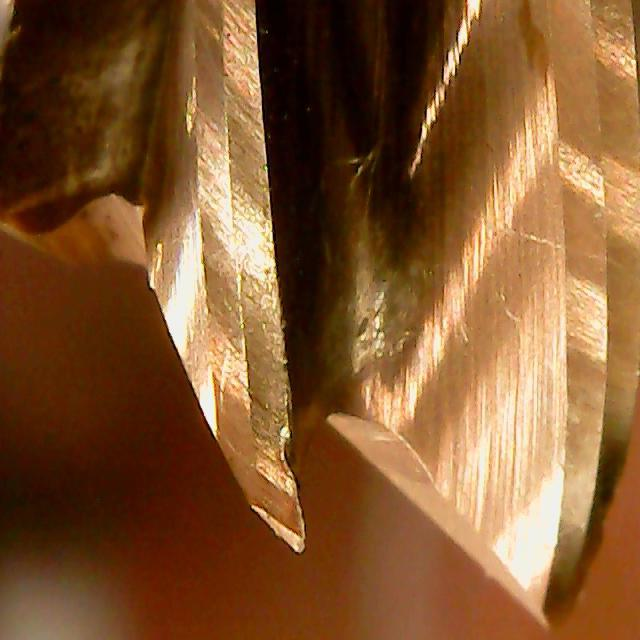Tool-wear-class-1: (157, 197, 320, 561)
